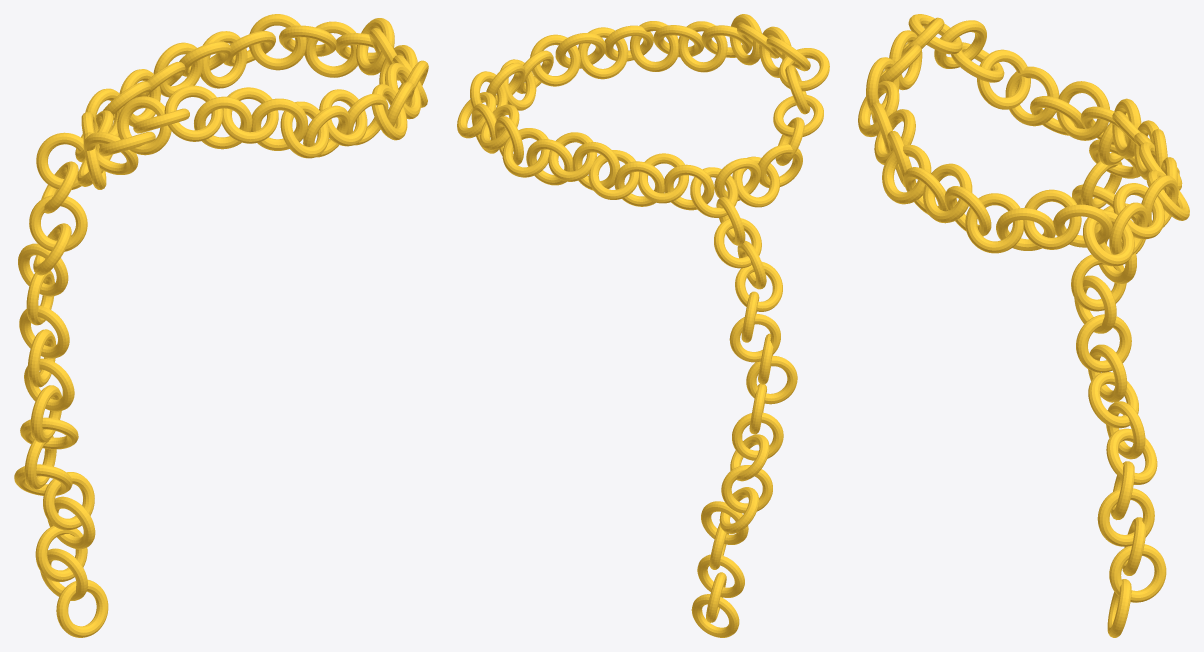
The model's file is Chain.fbx.
3 views of the same model, side by side, from view 1: azimuth 30°, elevation 25°; view 2: azimuth 150°, elevation 25°; view 3: azimuth 270°, elevation 25° (orthographic). The views are drawn at different scales.
Parts seen in each view (by area): view 1: Torus.053; view 2: Torus.053; view 3: Torus.053.
Part boxes in pixels (bbox=[...]): Torus.053: bbox=[14, 14, 428, 637]; Torus.053: bbox=[457, 14, 829, 637]; Torus.053: bbox=[858, 14, 1189, 637].
Bounding box in the file's own units: 88.37 × 138 × 66.78.
